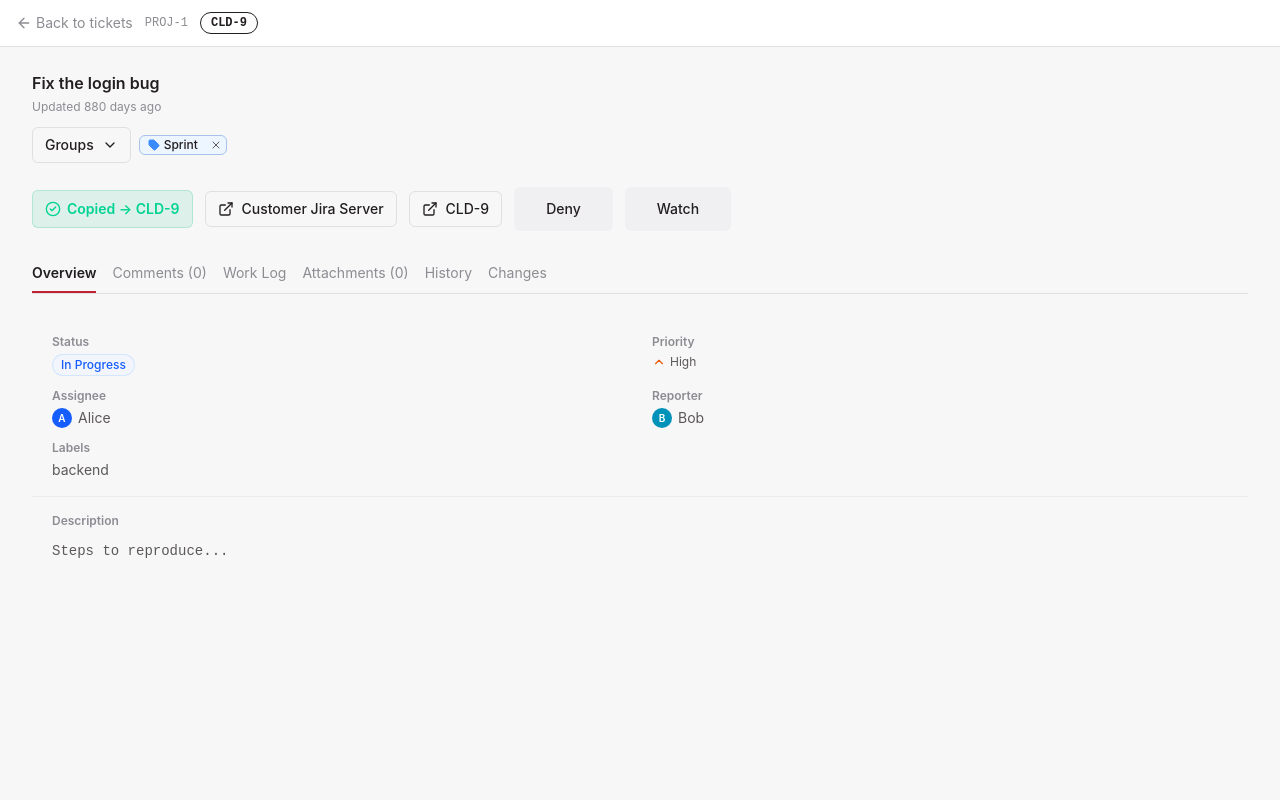
Test: TicketDetailPage › Phase 36 deny / link › Linked: Deny writes ignored and focuses Restore link
This screenshot has width=1280, height=800.
Click the button "Deny": (564, 209) [514,187,613,231]
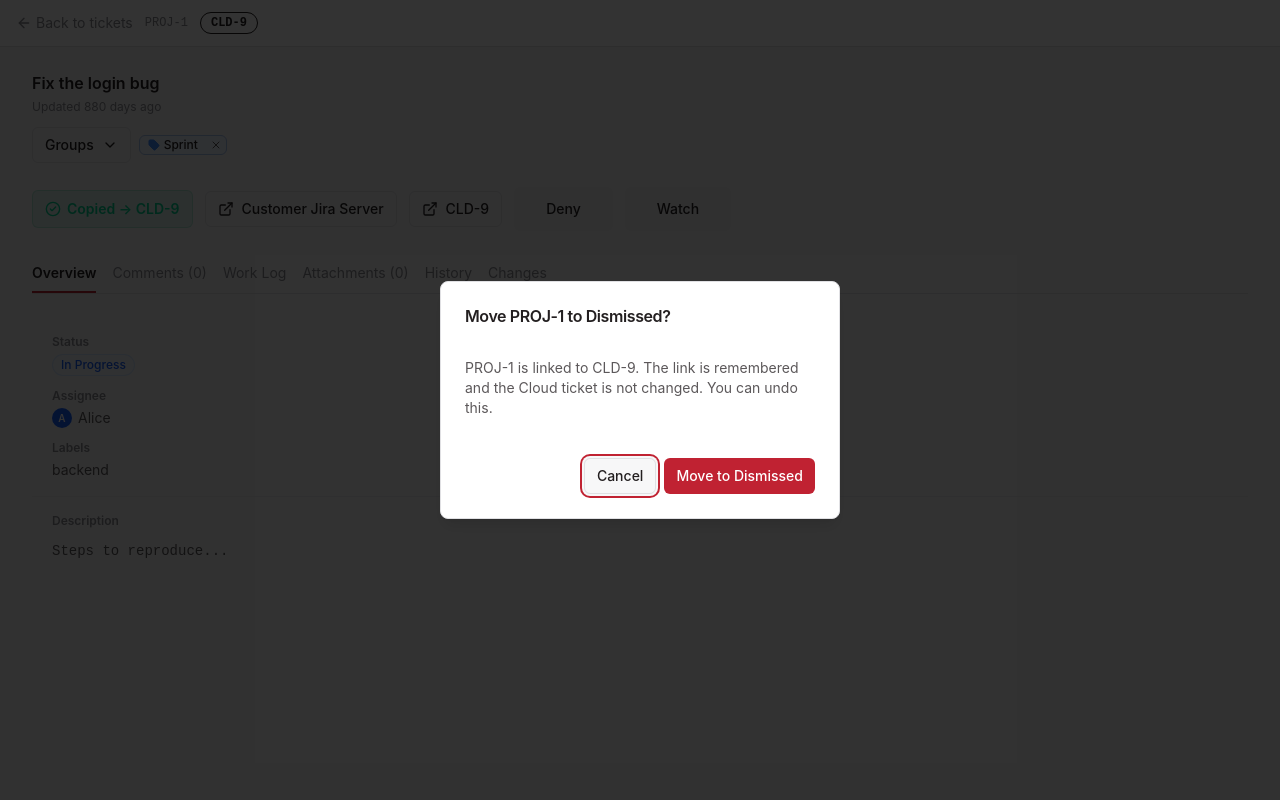
Click the button "Move to Dismissed": (740, 476) [664,458,815,494]
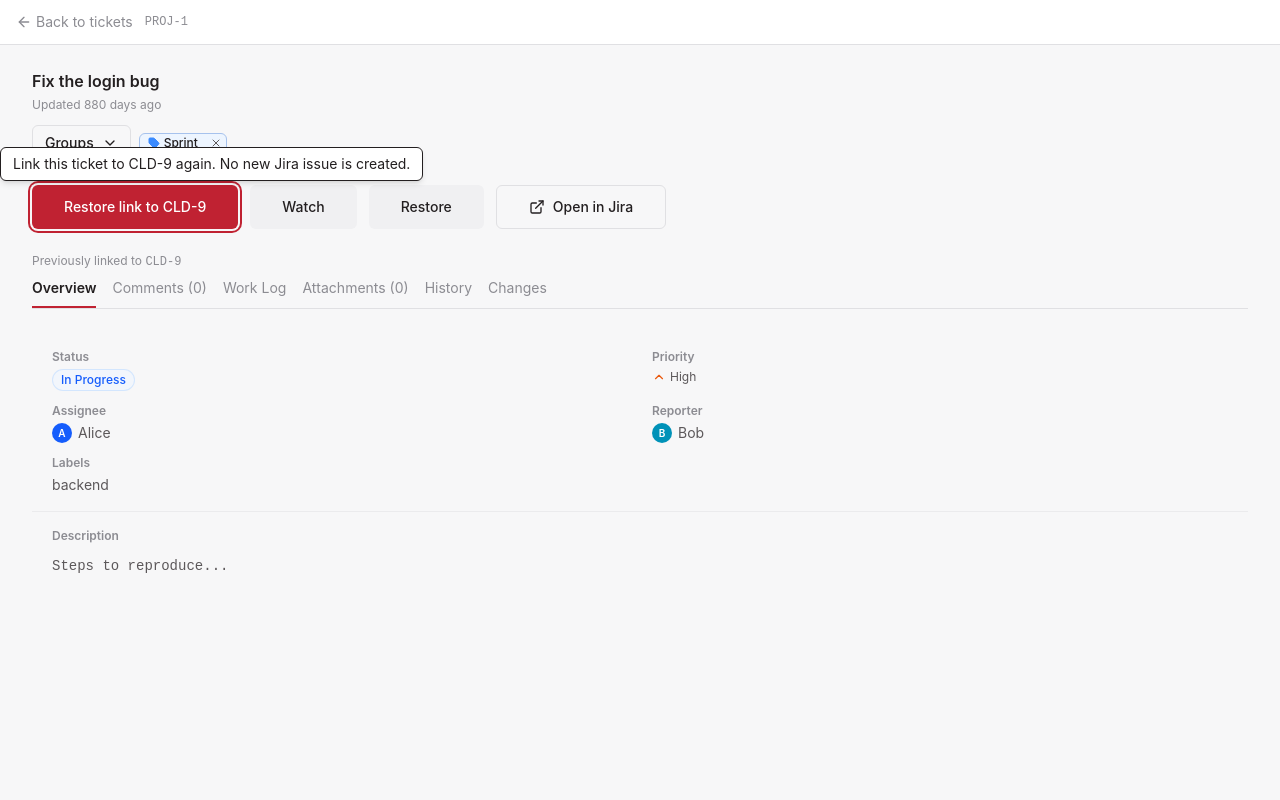
expect the dialog is gone: met
